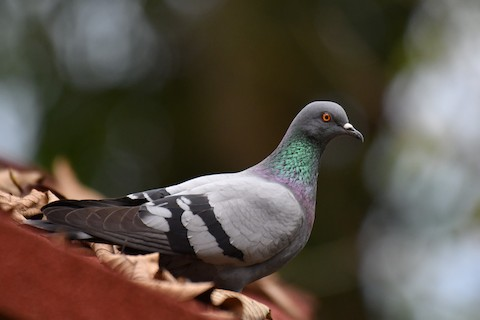pigeon: (17, 97, 367, 293)
